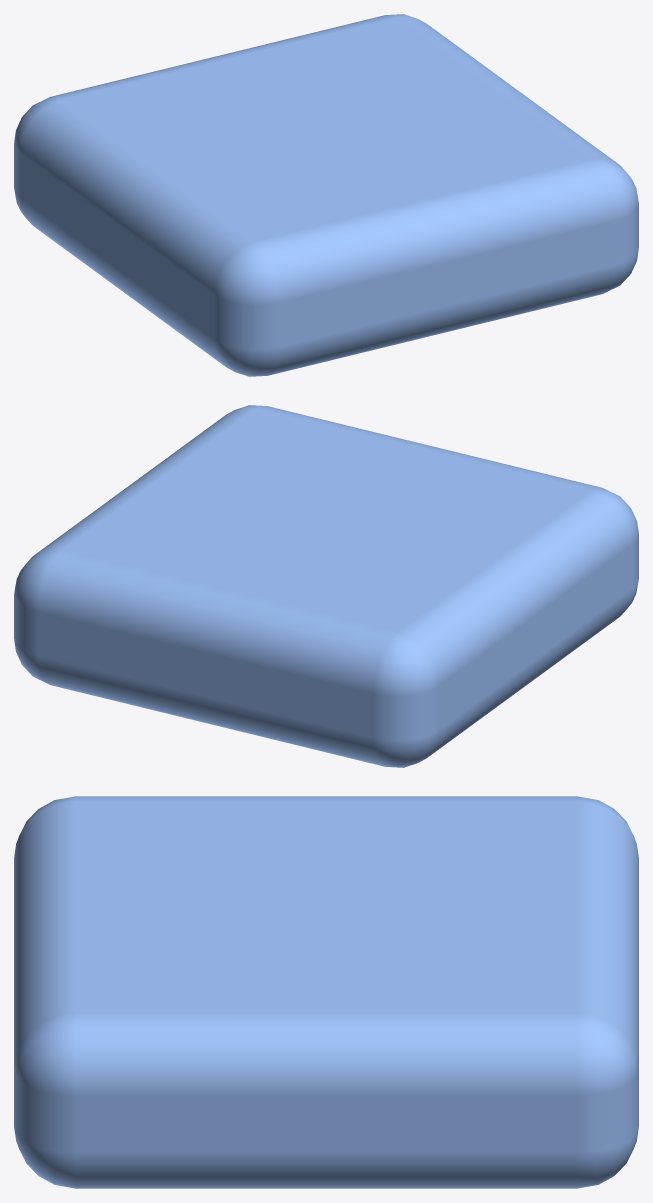
The model's file is mound.gltf.
3 views of the same model, one above another, from view 1: azimuth 30°, elevation 25°; view 2: azimuth 150°, elevation 25°; view 3: azimuth 270°, elevation 25° (orthographic). The views are drawn at different scales.
Visible parts, largest first — view 1: Cube; view 2: Cube; view 3: Cube.
Boxes of the visible parts, <box> form: Cube: <box>14,14,638,376</box>; Cube: <box>14,405,638,767</box>; Cube: <box>14,796,638,1188</box>.
Bounding box in the file's own units: 1 × 0.3 × 1.
